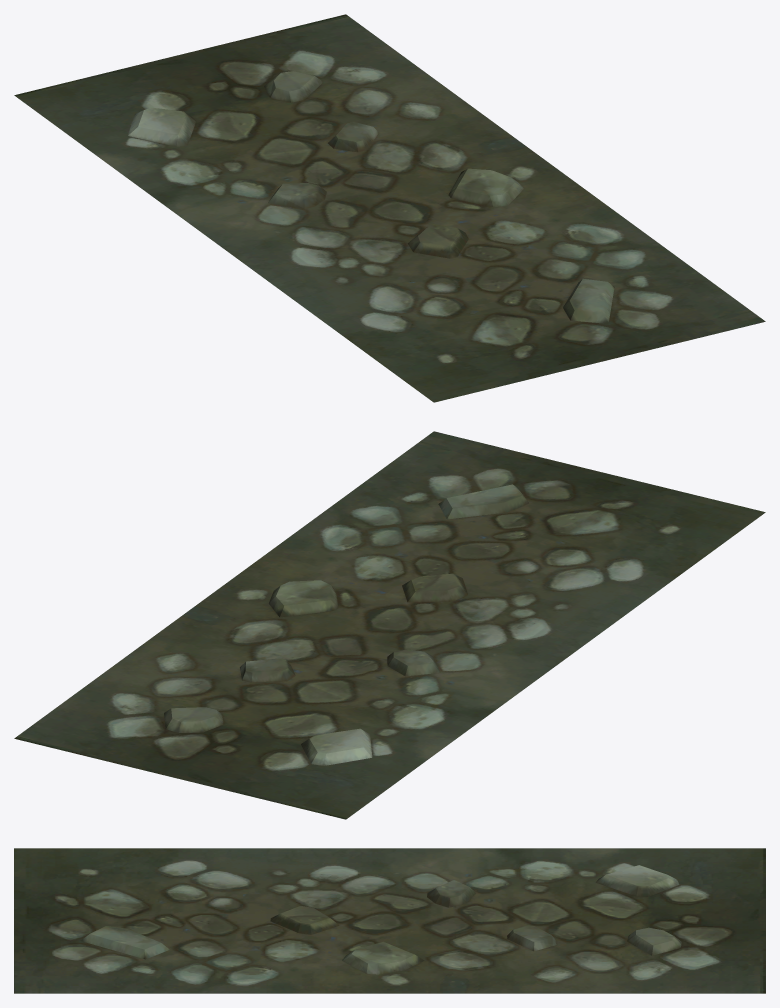
Rendered from road_straight_dirt1b.fbx.
The picture shows the model from 3 angles, top to bottom: view 1: azimuth 30°, elevation 25°; view 2: azimuth 150°, elevation 25°; view 3: azimuth 270°, elevation 25°; orthographic projection. The views are drawn at different scales.
Parts seen in each view (by area): view 1: obj0.057; view 2: obj0.057; view 3: obj0.057.
Part boxes in pixels (x1=…): obj0.057: x1=14, y1=14, x2=765, y2=402; obj0.057: x1=14, y1=431, x2=765, y2=819; obj0.057: x1=14, y1=848, x2=765, y2=993.
Size of the model in its own units: 9.12 by 0.194 by 19.98.
